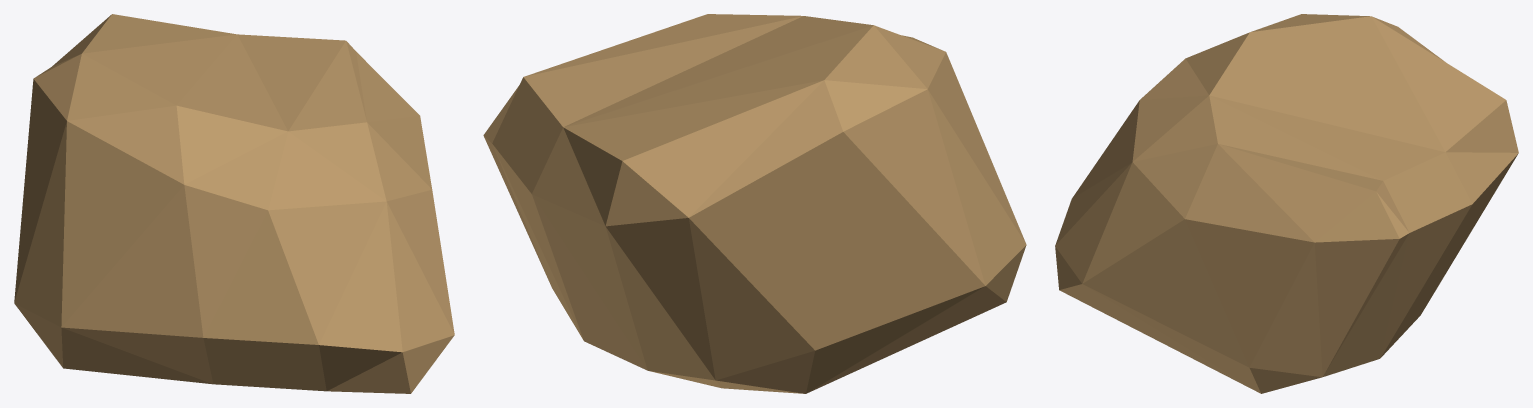
Rendered from rock1.dae.
The picture shows the model from 3 angles, left to right: view 1: azimuth 30°, elevation 25°; view 2: azimuth 150°, elevation 25°; view 3: azimuth 270°, elevation 25°; orthographic projection. The views are drawn at different scales.
Visible parts, largest first — view 1: Cube_017; view 2: Cube_017; view 3: Cube_017.
Boxes of the visible parts, left/top/right/bottom form: Cube_017: left=14, top=14, right=454, bottom=393; Cube_017: left=483, top=14, right=1026, bottom=393; Cube_017: left=1055, top=14, right=1518, bottom=393.
Bounding box in the file's own units: 0.5708 × 0.6407 × 0.4234.
